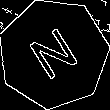N_SE: (23, 21, 84, 86)
